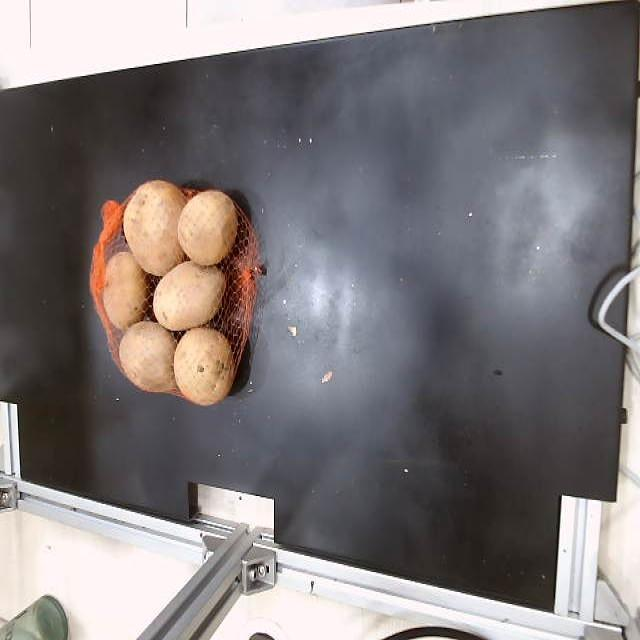potato: (124, 180, 186, 276), (152, 262, 226, 330), (178, 190, 238, 265), (175, 330, 234, 404), (119, 322, 176, 392), (102, 252, 148, 329)
